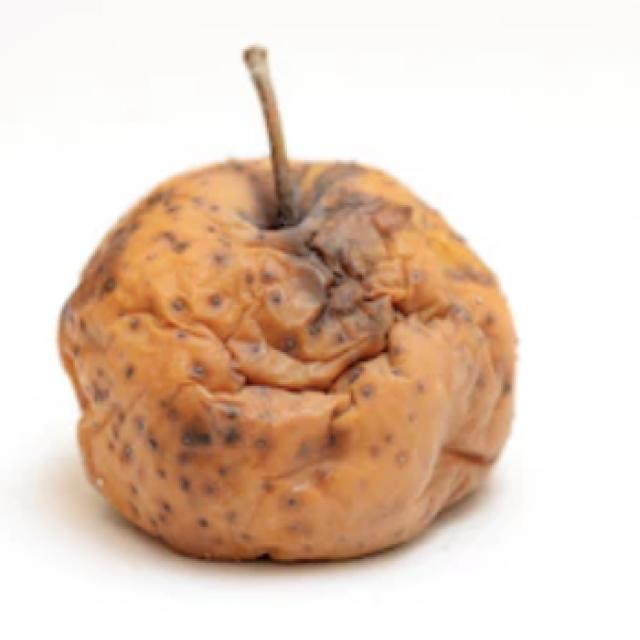Rotten: (81, 155, 522, 555)
